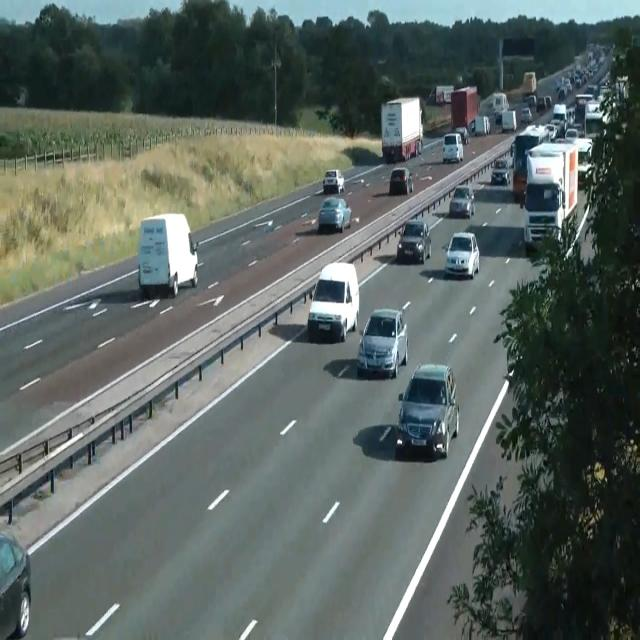bus: (0, 530, 31, 639), (397, 219, 431, 264), (318, 196, 352, 233), (449, 185, 475, 218), (389, 167, 413, 195), (322, 169, 344, 194), (490, 158, 510, 185), (575, 94, 593, 110), (455, 126, 469, 145), (494, 108, 508, 124), (520, 106, 532, 122), (565, 128, 578, 140)
jeep: (395, 362, 459, 458), (307, 260, 359, 342), (356, 306, 408, 378), (445, 230, 479, 278), (442, 132, 463, 164)
minibus: (522, 140, 578, 252), (137, 212, 198, 298), (381, 96, 423, 163), (512, 125, 550, 198), (450, 86, 478, 132), (479, 92, 509, 116), (426, 84, 454, 106), (521, 71, 537, 105), (468, 115, 490, 136), (502, 110, 516, 132)
